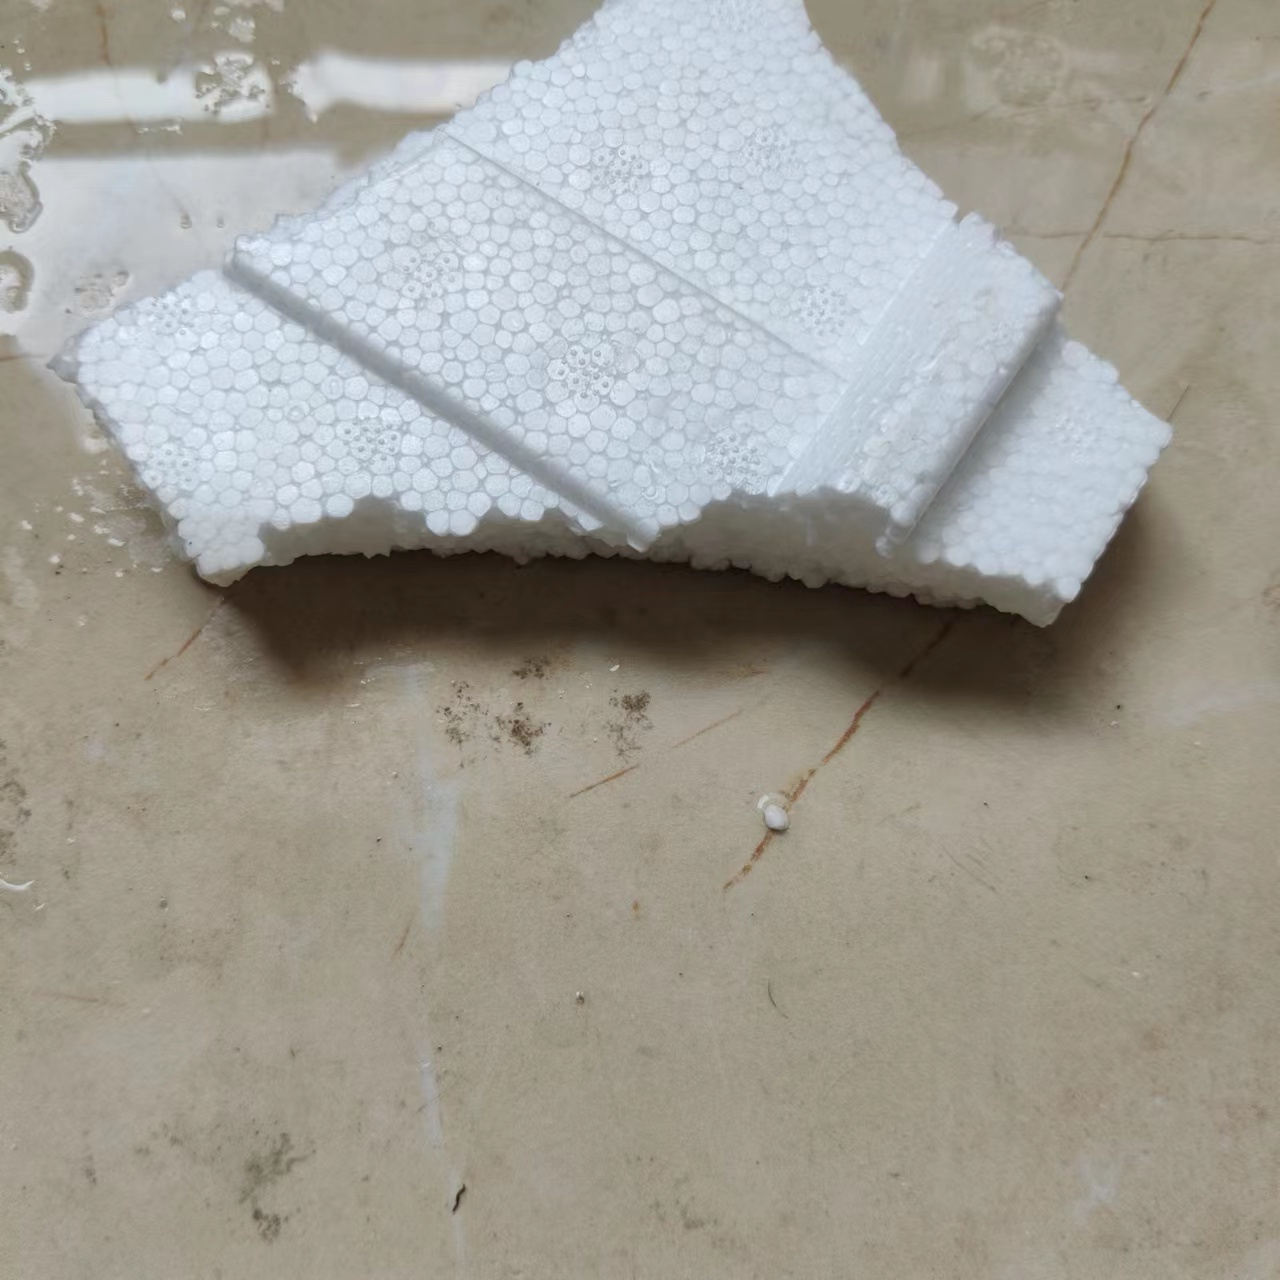5/可回收垃圾/泡沫: (50, 1, 1175, 632)
